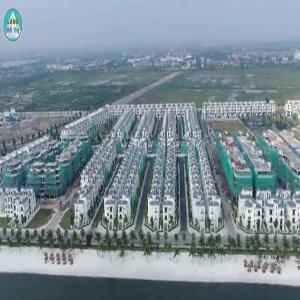drone: (60, 214, 119, 273)
